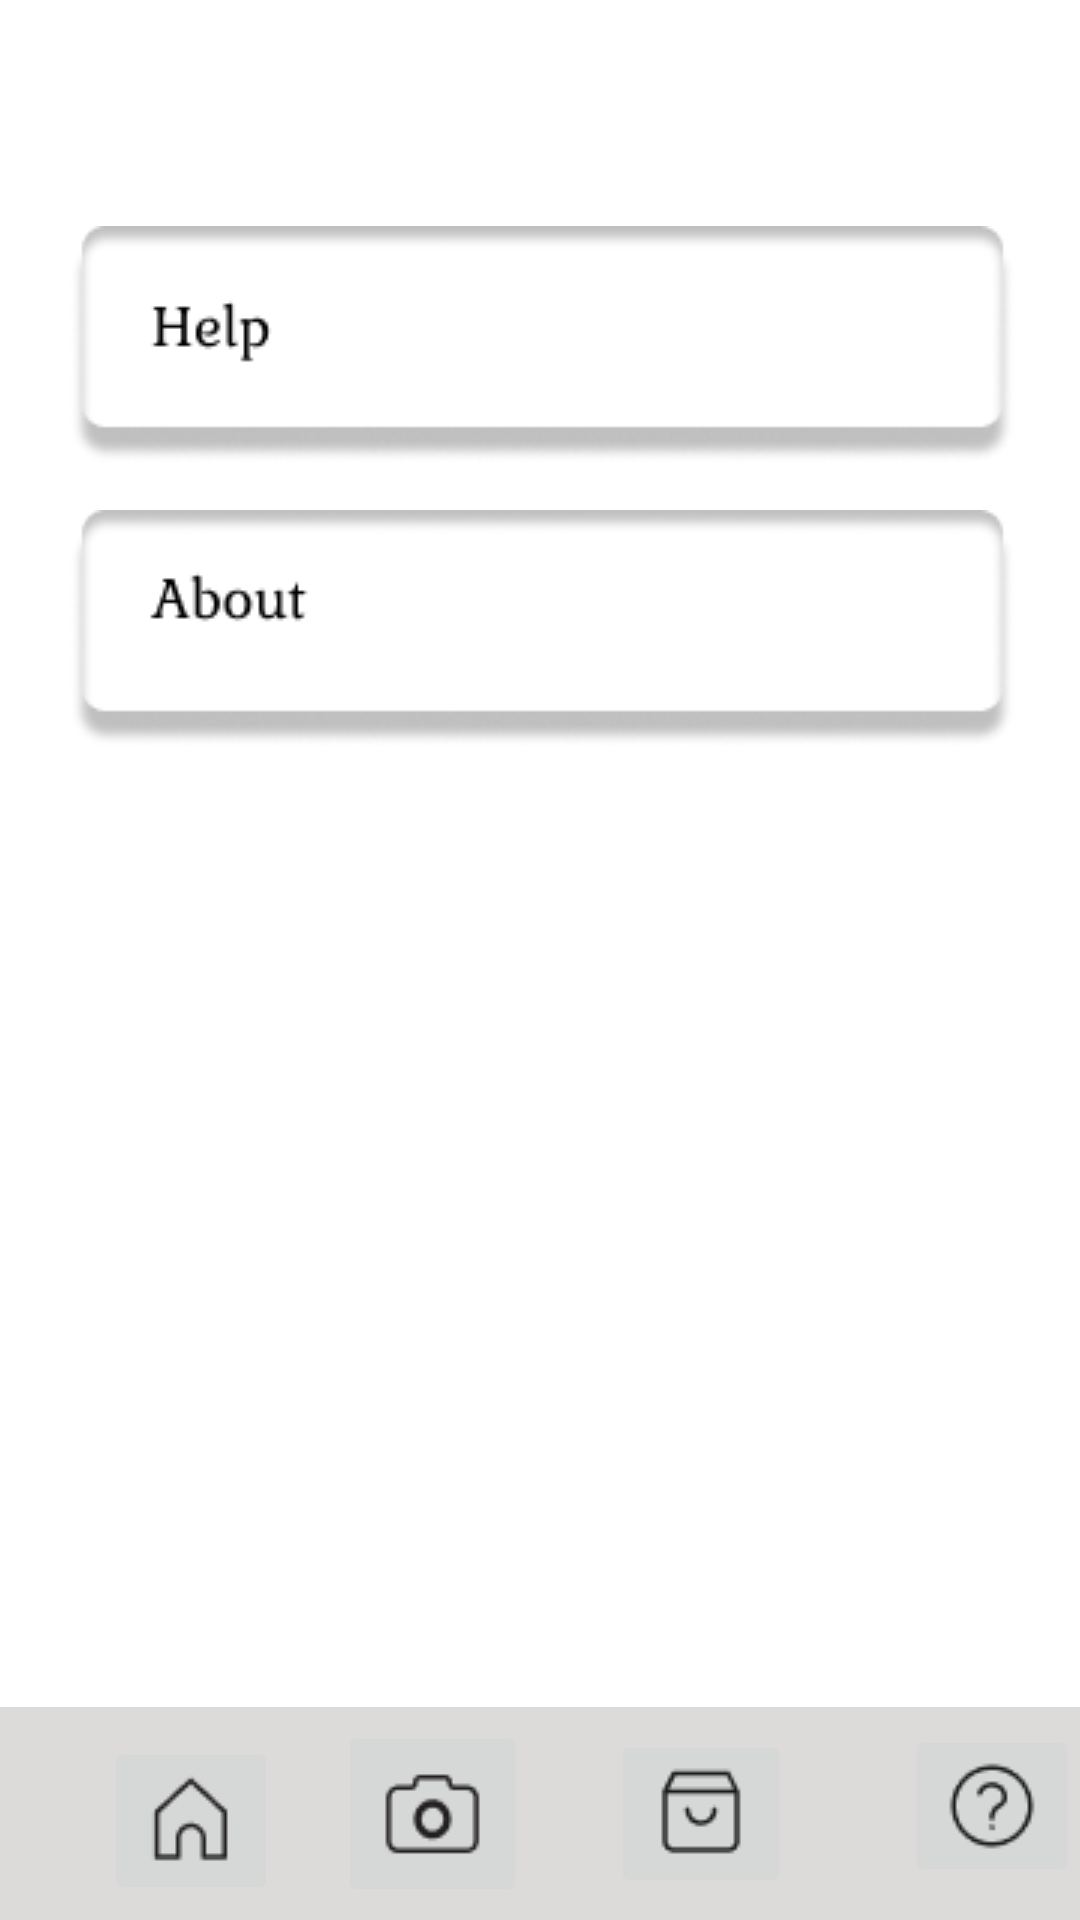

Point at icon controls on the screen. Image size 1080 x 1920, points as (x,y).
buttonaboutus: (992,1806)
buttoncam: (432,1814)
buttonhome: (190,1819)
buttonproduct: (701,1811)
